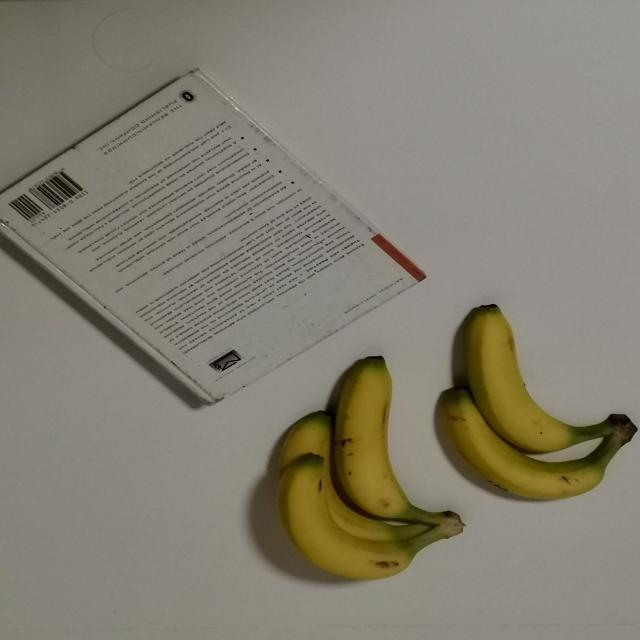Banana: (252, 357, 461, 586), (422, 298, 637, 506)
Book: (0, 66, 430, 406)
